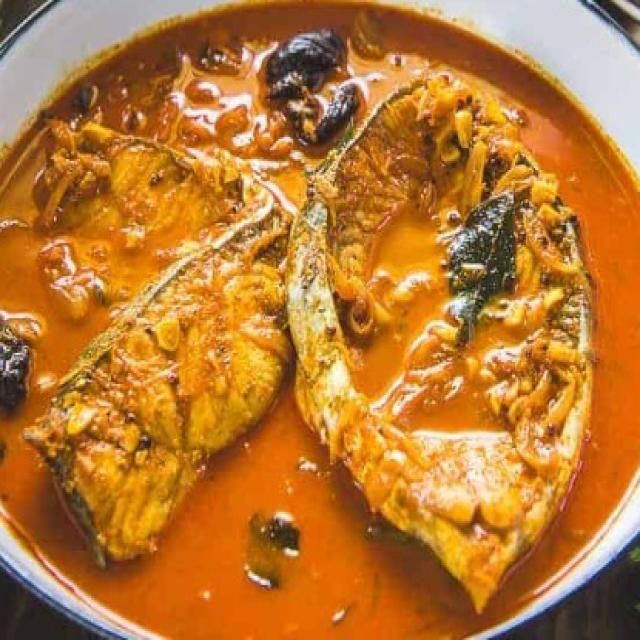FISH CURRY: (0, 8, 637, 638)
